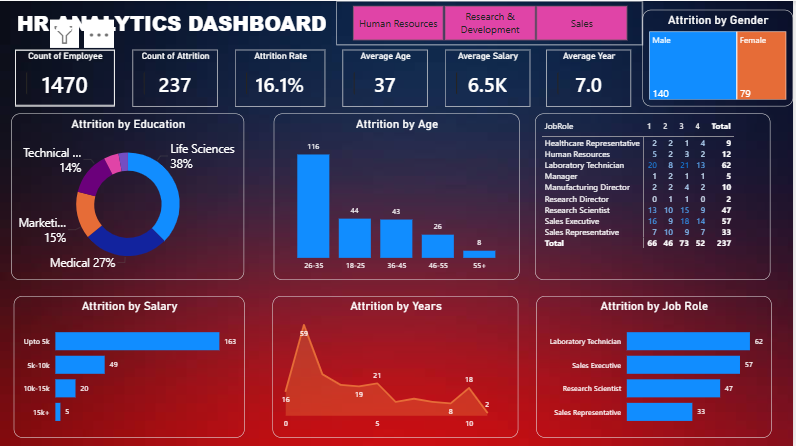

This screenshot's page, from the dashboard's own definition file:
{"tool":"powerbi","page":{"name":"Page 1","canvas":[1280,720],"ordinal":0},"visuals":[{"type":"cardVisual","title":"Count of Employee","fields":{"Data":["CountNonNull(HR_Analytics.EmpID)"]},"box":[24.3,78.1,161.1,91.9],"z":0},{"type":"cardVisual","title":"Count of  Attrition","fields":{"Data":["Sum(HR_Analytics.AttritionCount)"]},"box":[213.3,78.1,137.4,91.9],"z":1000},{"type":"cardVisual","title":"Attrition Rate","fields":{"Data":["Avg(HR_Analytics.AttritionRate)"]},"box":[378.5,78.1,145.9,91.9],"z":2000},{"type":"cardVisual","title":"Average Salary","fields":{"Data":["Avg(HR_Analytics.MonthlyIncome)"]},"box":[717.6,78.1,137.4,91.9],"z":3000},{"type":"cardVisual","title":"Average Age","fields":{"Data":["Avg(HR_Analytics.Age)"]},"box":[552.3,78.1,137.4,91.9],"z":4000},{"type":"cardVisual","title":"Average Year","fields":{"Data":["Avg(HR_Analytics.YearsAtCompany)"]},"box":[882.8,78.1,137,91.9],"z":5000},{"type":"donutChart","title":"Attrition by Education","fields":{"Category":["HR_Analytics.EducationField"],"Y":["Sum(HR_Analytics.AttritionCount)"]},"box":[19.1,182.1,376.4,268.8],"z":6000},{"type":"columnChart","title":"Attrition by Age","fields":{"Category":["HR_Analytics.AgeGroup"],"Y":["Sum(HR_Analytics.AttritionCount)"]},"box":[442.3,182.1,397.2,268.8],"z":7000},{"type":"pivotTable","title":"Attrition by Education","fields":{"Rows":["HR_Analytics.JobRole"],"Columns":["HR_Analytics.JobSatisfaction"],"Values":["Sum(HR_Analytics.AttritionCount)"]},"box":[863.8,182.1,379.8,268.8],"z":8000},{"type":"barChart","title":"Attrition by Salary","fields":{"Category":["HR_Analytics.SalarySlab"],"Y":["Sum(HR_Analytics.AttritionCount)"]},"box":[22.5,475.2,372.9,228.9],"z":9000},{"type":"barChart","title":"Attrition by Job Role","fields":{"Category":["HR_Analytics.JobRole"],"Y":["Sum(HR_Analytics.AttritionCount)"]},"box":[865.5,475.2,379.8,228.9],"z":10000},{"type":"areaChart","title":"Attrition by Years","fields":{"Category":["HR_Analytics.YearsAtCompany"],"Y":["Sum(HR_Analytics.AttritionCount)"]},"box":[440.6,475.2,397.2,228.9],"z":11000},{"type":"treemap","title":"Attrition by Gender","fields":{"Group":["HR_Analytics.Gender"],"Values":["Sum(HR_Analytics.AttritionCount)"]},"box":[1037.2,13.9,242.8,156.1],"z":12000},{"type":"slicer","fields":{"Values":["HR_Analytics.Department"]},"box":[542.9,0,494.3,71.1],"z":13000},{"type":"textbox","box":[22.1,8.5,523.2,56.1],"z":14000}]}

Visuals, with their boxes in screenshot pixels (x1, y1, x2, y2), scaled from the page's 1280x720 canvas onto the 796x446 screenshot:
"Count of Employee" cardVisual: select_region(15, 48, 115, 105)
"Count of  Attrition" cardVisual: select_region(133, 48, 218, 105)
"Attrition Rate" cardVisual: select_region(235, 48, 326, 105)
"Average Salary" cardVisual: select_region(446, 48, 532, 105)
"Average Age" cardVisual: select_region(343, 48, 429, 105)
"Average Year" cardVisual: select_region(549, 48, 634, 105)
"Attrition by Education" donutChart: select_region(12, 113, 246, 279)
"Attrition by Age" columnChart: select_region(275, 113, 522, 279)
"Attrition by Education" pivotTable: select_region(537, 113, 773, 279)
"Attrition by Salary" barChart: select_region(14, 294, 246, 436)
"Attrition by Job Role" barChart: select_region(538, 294, 774, 436)
"Attrition by Years" areaChart: select_region(274, 294, 521, 436)
"Attrition by Gender" treemap: select_region(645, 9, 795, 105)
slicer - HR_Analytics.Department: select_region(338, 0, 645, 44)
textbox: select_region(14, 5, 339, 40)
